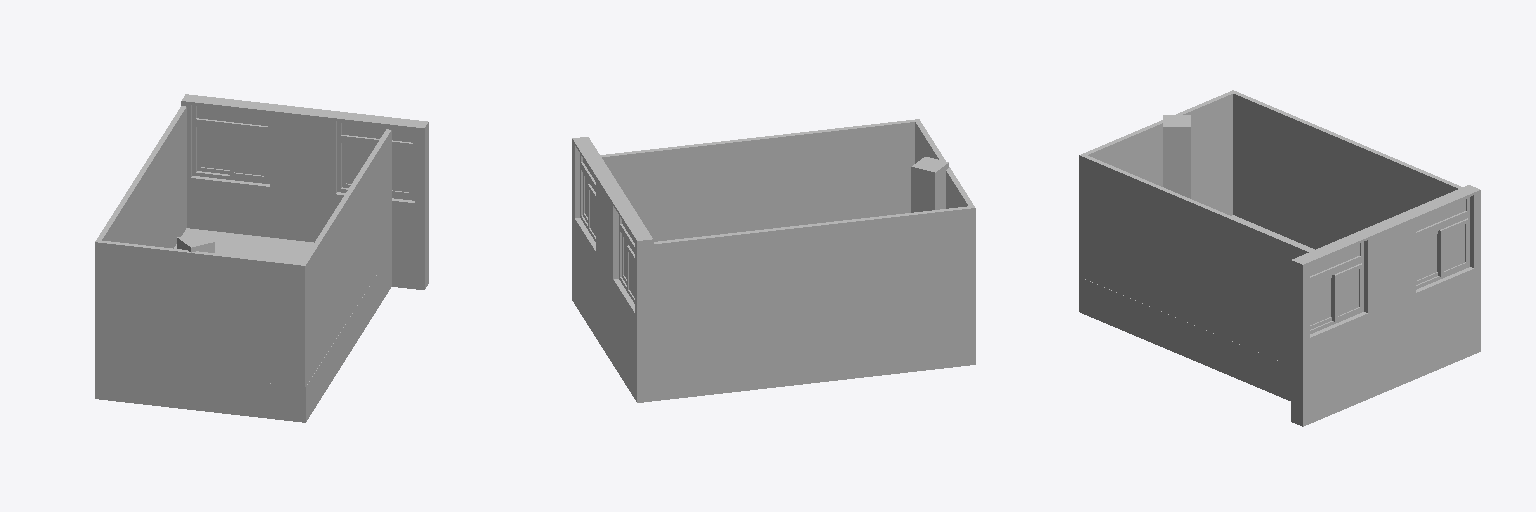
3 views of the same model, side by side, from view 1: azimuth 30°, elevation 25°; view 2: azimuth 150°, elevation 25°; view 3: azimuth 270°, elevation 25° (orthographic).
Visible parts, largest first — view 1: Mesh26 Group8 Model, Mesh2 Group2 Model, Mesh1 Group1 Model, Mesh4 Group4 Model, Mesh3 Group3 Model, Mesh7 Glazing Window_Sliding_Casement_14 Window_Sliding_7_1 Grou, Mesh10 Glazing2 Window_Sliding_Casement_14_1 Window_Sliding_7_1 , Mesh6 Window_Sliding_Main_Frame_7 Window_Sliding_7_1 Group6 Mode, Mesh14 Glazing4 Window_Fixed_2_1 Group6 Model, Mesh24 Glazing10 Window_Fixed_2_2 Group7 Model, Mesh16 Window_Sliding_Main_Frame_7_1 Window_Sliding_7_2 Group7 M, Mesh17 Glazing6 Window_Sliding_Casement_14_2 Window_Sliding_7_2  (+3 smaller); view 2: Mesh3 Group3 Model, Mesh4 Group4 Model, Mesh2 Group2 Model, Mesh1 Group1 Model, Mesh26 Group8 Model, Mesh5 Group5 Model; view 3: Mesh4 Group4 Model, Mesh2 Group2 Model, Mesh3 Group3 Model, Mesh26 Group8 Model, Mesh1 Group1 Model, Mesh5 Group5 Model, Mesh8 Glazing1 Window_Sliding_Casement_14 Window_Sliding_7_1 Gro, Mesh18 Glazing7 Window_Sliding_Casement_14_2 Window_Sliding_7_2 , Mesh21 Glazing9 Window_Sliding_Casement_14_3 Window_Sliding_7_2 , Mesh11 Glazing3 Window_Sliding_Casement_14_1 Window_Sliding_7_1 , Mesh22 Window_Sliding_Casement_14_3 Window_Sliding_7_2 Group7 Mo, Mesh12 Window_Sliding_Casement_14_1 Window_Sliding_7_1 Group6 Mo (+2 smaller).
Part boxes in pixels (x1,y1,x2,y2): Mesh26 Group8 Model: (95,240,306,386); Mesh2 Group2 Model: (181,94,428,289); Mesh1 Group1 Model: (95,228,391,422); Mesh4 Group4 Model: (302,129,391,383); Mesh3 Group3 Model: (97,106,186,248); Mesh7 Glazing Window_Sliding_Casement_14 Window_Sliding_7_1 Grou: (234,134,263,175); Mesh10 Glazing2 Window_Sliding_Casement_14_1 Window_Sliding_7_1 : (201,129,229,169); Mesh6 Window_Sliding_Main_Frame_7 Window_Sliding_7_1 Group6 Mode: (192,121,269,183); Mesh14 Glazing4 Window_Fixed_2_1 Group6 Model: (197,106,267,125); Mesh24 Glazing10 Window_Fixed_2_2 Group7 Model: (342,123,412,142); Mesh16 Window_Sliding_Main_Frame_7_1 Window_Sliding_7_2 Group7 M: (337,138,414,200); Mesh17 Glazing6 Window_Sliding_Casement_14_2 Window_Sliding_7_2 : (392,152,408,191); Mesh3 Group3 Model: (654,206,969,365); Mesh4 Group4 Model: (600,120,914,241); Mesh2 Group2 Model: (572,137,653,402); Mesh1 Group1 Model: (654,329,975,400); Mesh26 Group8 Model: (914,119,975,329); Mesh5 Group5 Model: (911,157,948,212); Mesh4 Group4 Model: (1083,155,1312,365); Mesh2 Group2 Model: (1291,185,1480,426); Mesh3 Group3 Model: (1233,92,1462,249); Mesh26 Group8 Model: (1079,90,1236,277); Mesh1 Group1 Model: (1079,215,1314,400); Mesh5 Group5 Model: (1163,115,1190,198); Mesh8 Glazing1 Window_Sliding_Casement_14 Window_Sliding_7_1 Gro: (1416,234,1436,280); Mesh18 Glazing7 Window_Sliding_Casement_14_2 Window_Sliding_7_2 : (1310,279,1330,324); Mesh21 Glazing9 Window_Sliding_Casement_14_3 Window_Sliding_7_2 : (1338,269,1358,315); Mesh11 Glazing3 Window_Sliding_Casement_14_1 Window_Sliding_7_1 : (1444,225,1464,270); Mesh22 Window_Sliding_Casement_14_3 Window_Sliding_7_2 Group7 Mo: (1332,263,1362,321); Mesh12 Window_Sliding_Casement_14_1 Window_Sliding_7_1 Group6 Mo: (1438,218,1468,276).
Size of the model in its own units: 7.62 by 3.2 by 7.2.